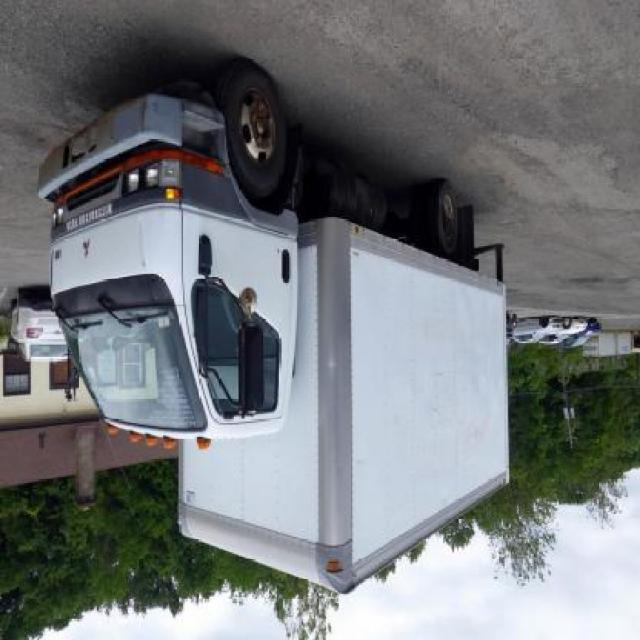truck: (38, 64, 519, 593)
